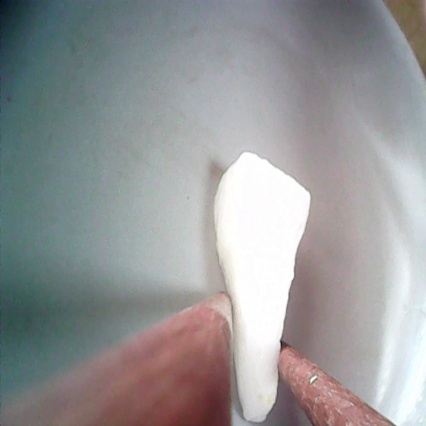white_chinese-yam: (207, 148, 319, 421)
